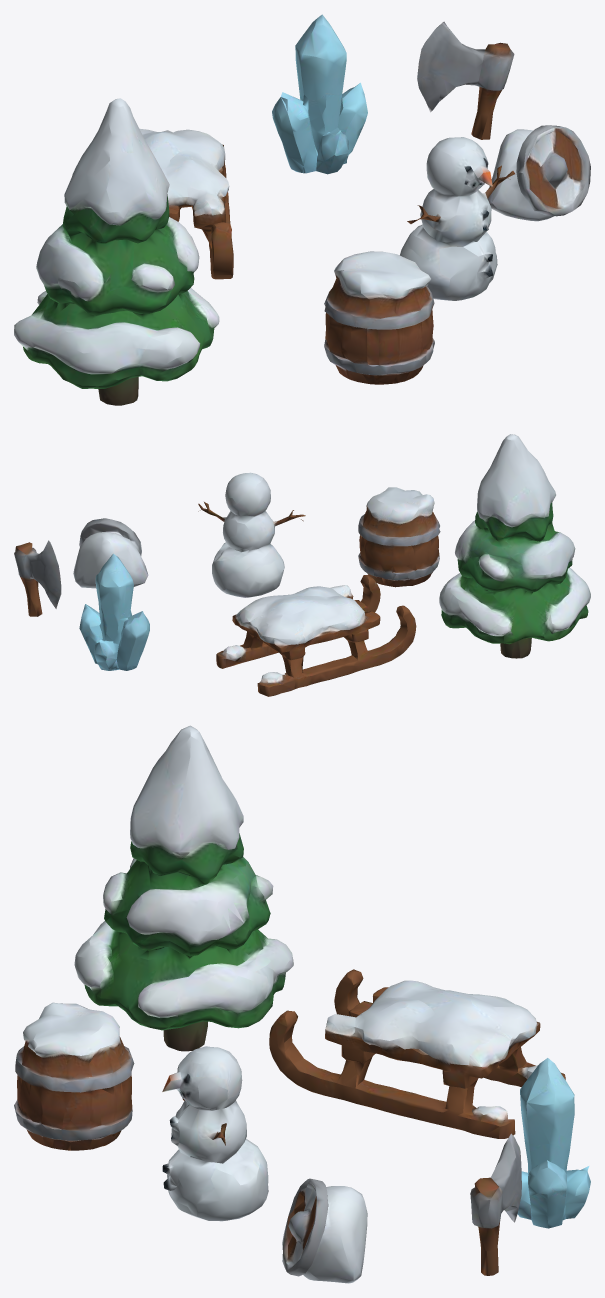
The model's file is tundra_objetos.glb.
3 renders of one model, top to bottom at view 1: azimuth 30°, elevation 25°; view 2: azimuth 150°, elevation 25°; view 3: azimuth 270°, elevation 25°, orthographic. The views are drawn at different scales.
Parts seen in each view (by area): view 1: tripo_node_83bd9294-3fa2-463f-ae24-87499da1bf52; view 2: tripo_node_83bd9294-3fa2-463f-ae24-87499da1bf52; view 3: tripo_node_83bd9294-3fa2-463f-ae24-87499da1bf52.
Part boxes in pixels (x1,y1,x2,y2): tripo_node_83bd9294-3fa2-463f-ae24-87499da1bf52: [14, 14, 590, 405]; tripo_node_83bd9294-3fa2-463f-ae24-87499da1bf52: [14, 434, 590, 696]; tripo_node_83bd9294-3fa2-463f-ae24-87499da1bf52: [14, 725, 590, 1283].
Bounding box in the file's own units: 0.9985 × 0.4581 × 0.7531.
Materials: 1 (1 with a texture image).
